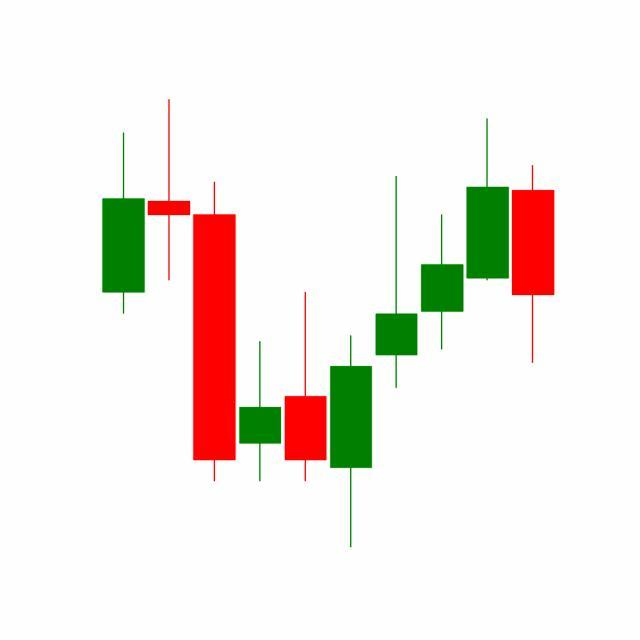Hikkake Pattern: (283, 114, 512, 548)
